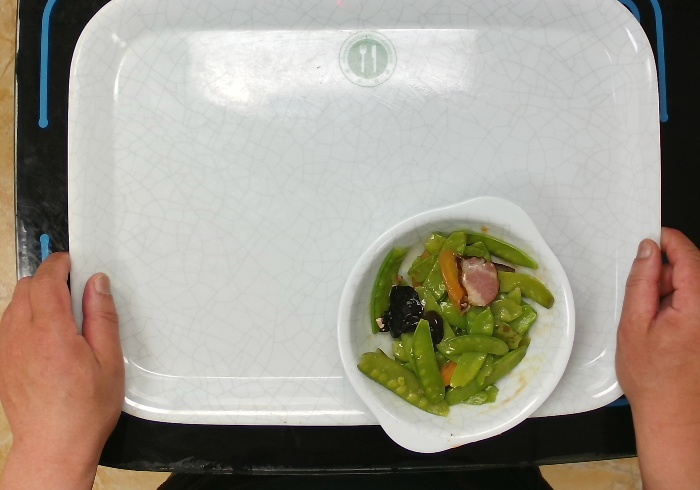JYsf-Shuang_Er_Wan: (326, 180, 580, 456)
